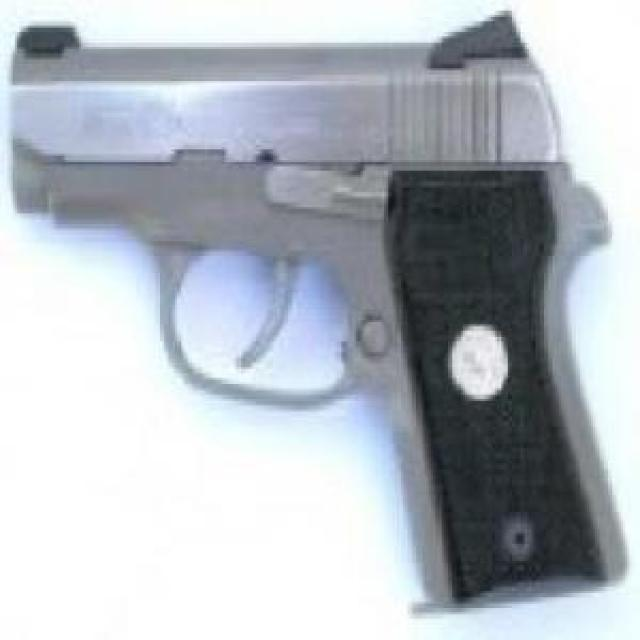pistol: (26, 6, 625, 609)
